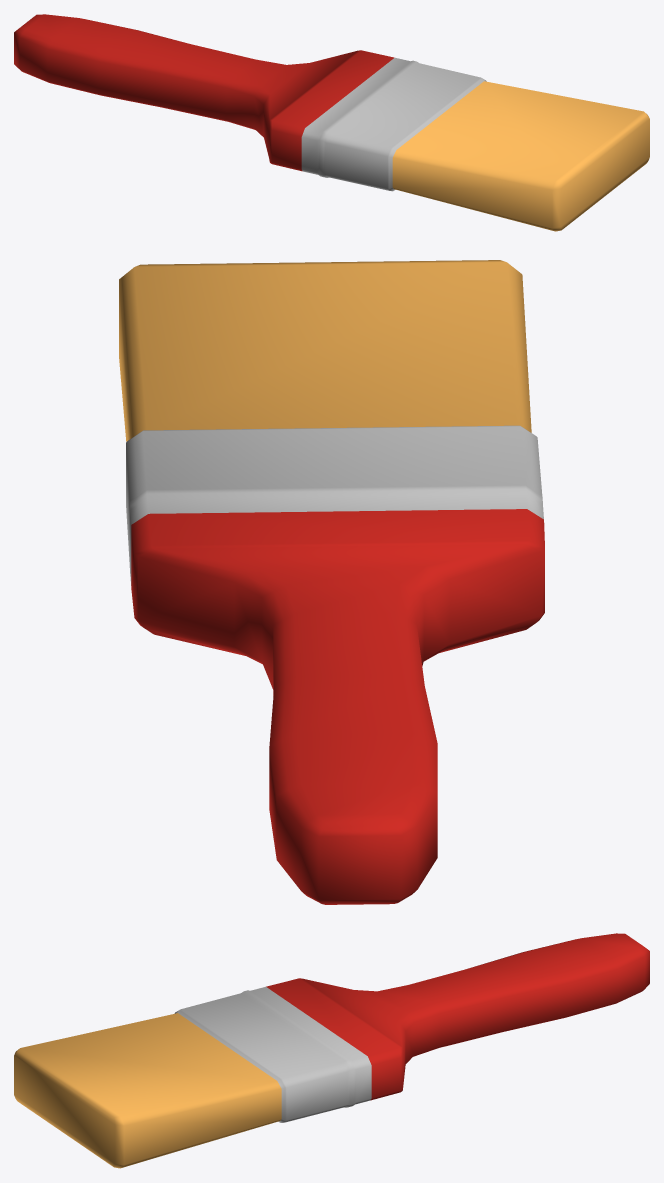
File: QSF_shuazi.FBX
The picture shows the model from 3 angles, top to bottom: view 1: azimuth 30°, elevation 25°; view 2: azimuth 150°, elevation 25°; view 3: azimuth 270°, elevation 25°; orthographic projection. The views are drawn at different scales.
Parts seen in each view (by area): view 1: QSF_shuazi; view 2: QSF_shuazi; view 3: QSF_shuazi.
Boxes of the visible parts, x1,y1,x2,y2 form: QSF_shuazi: [14, 14, 649, 231]; QSF_shuazi: [119, 260, 544, 904]; QSF_shuazi: [14, 933, 649, 1168].
Size of the model in its own units: 77.02 by 9.62 by 107.
